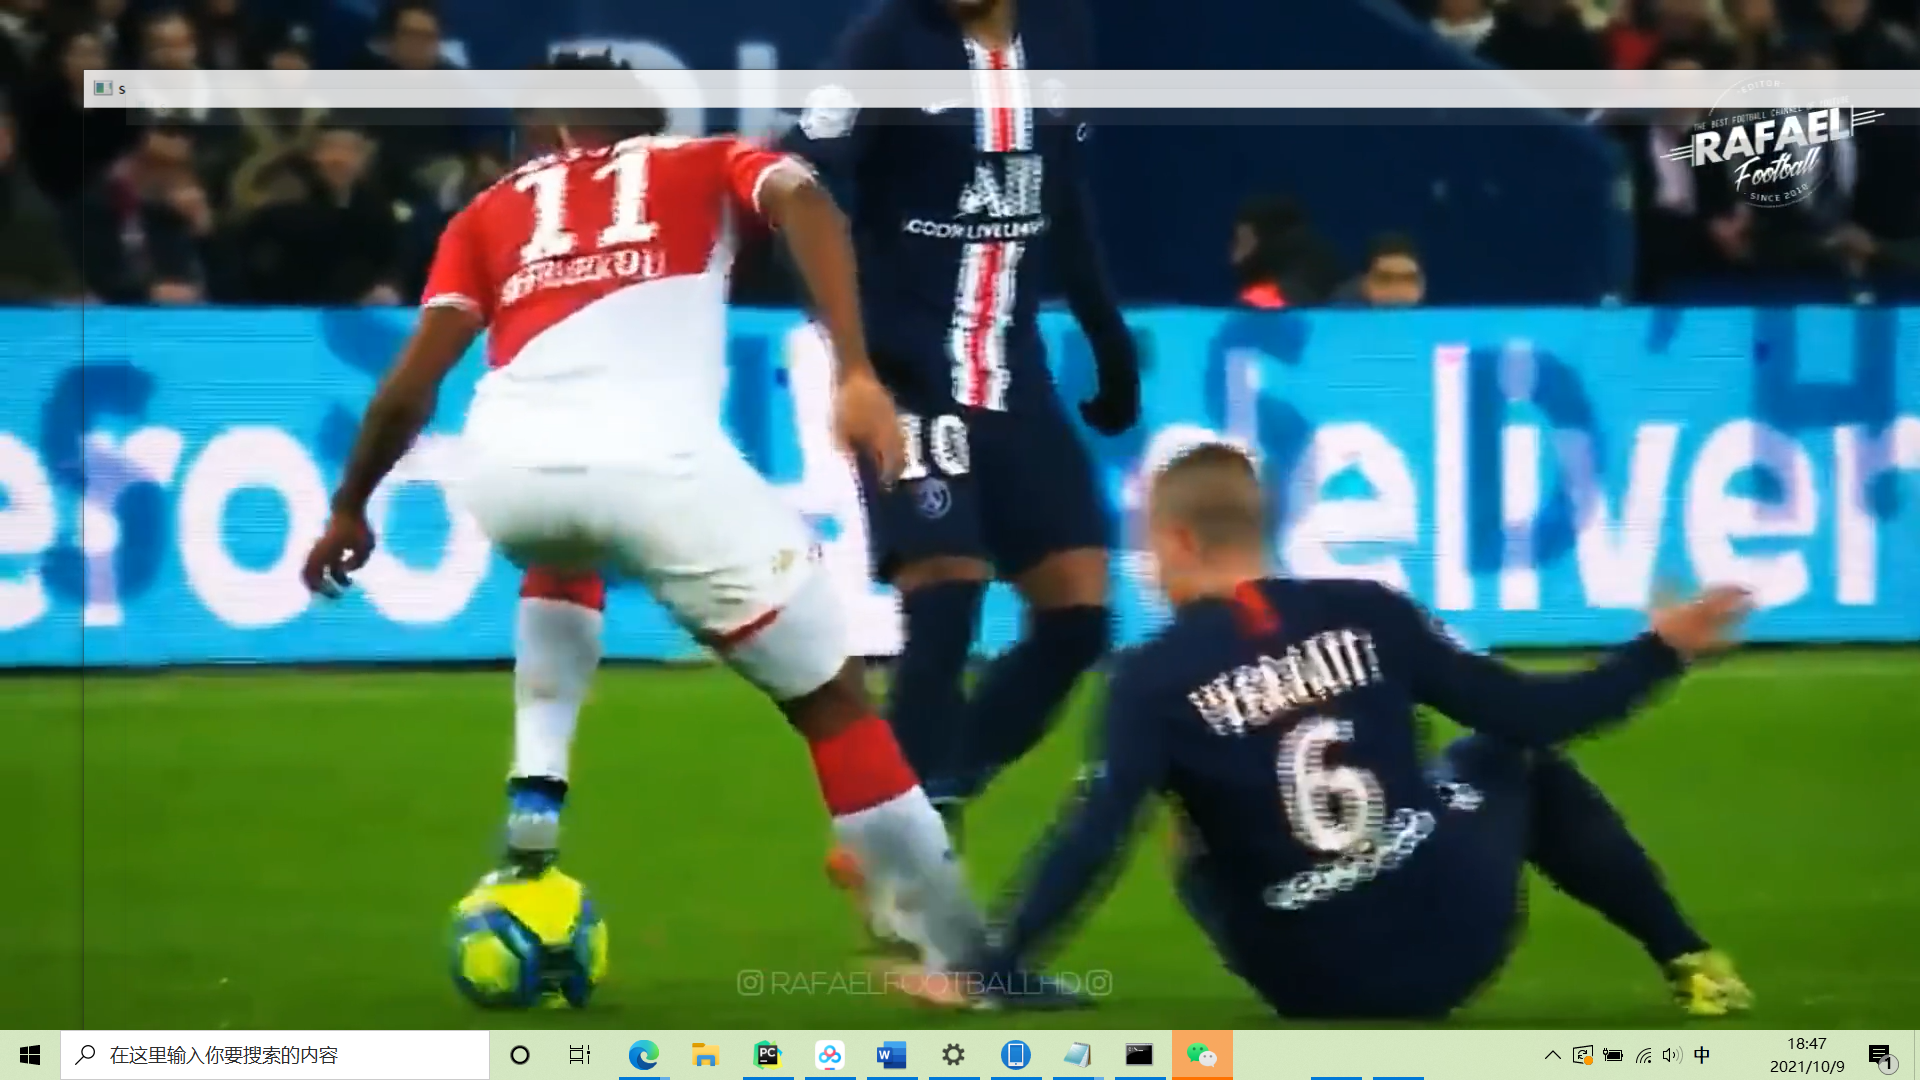ft: (436, 862, 630, 1014)
